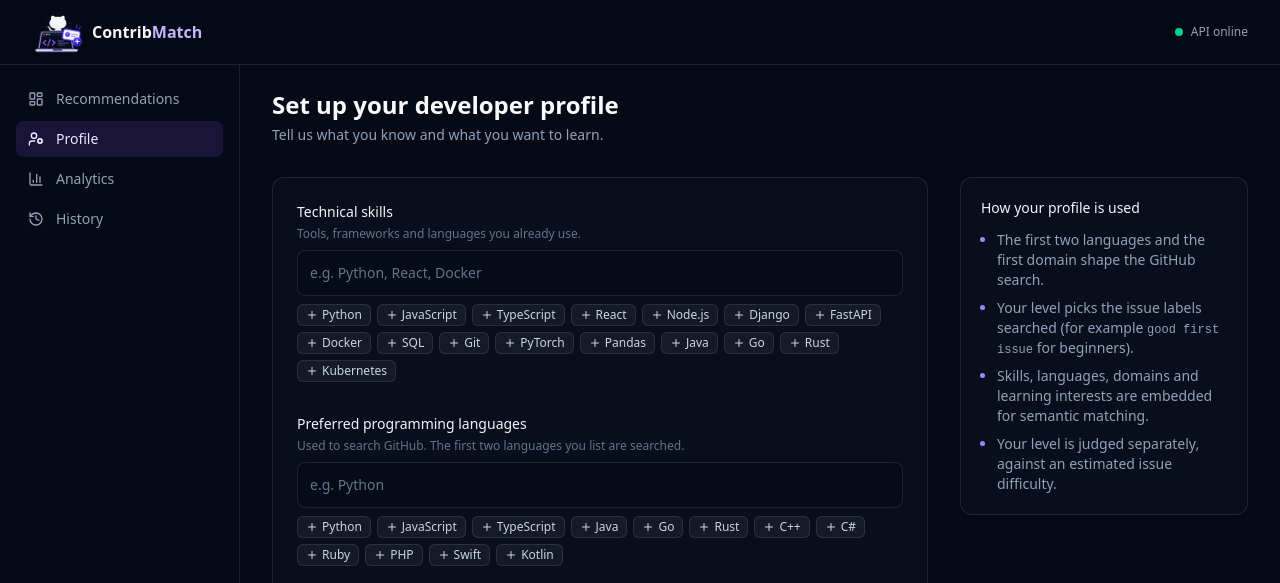
Navigation & shell › sidebar links navigate between pages
What coordinates should you click on to do the following:
click the link "Analytics"
I would click on:
 (71, 178)
Its box is [28, 169, 114, 188].
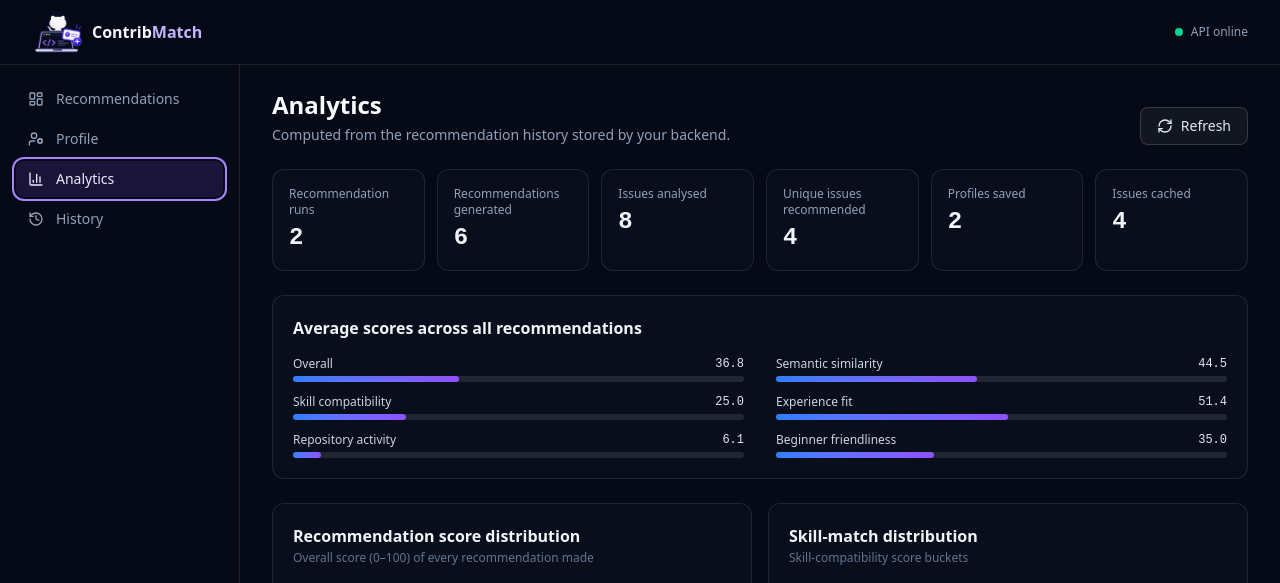
Now the heading "Analytics" is shown, box [272, 88, 382, 121]
What coordinates should you click on to do the following:
click the link "History"
I would click on:
 (66, 218)
Its box is [28, 209, 103, 228].
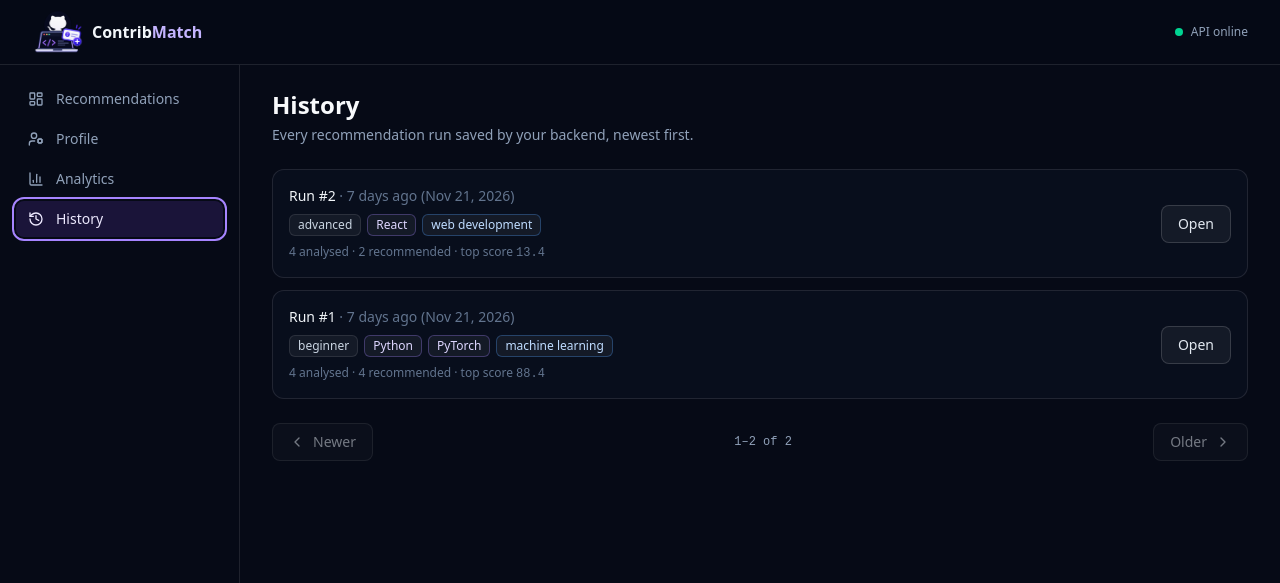
Now the heading "History" is shown, box [272, 88, 359, 121]
